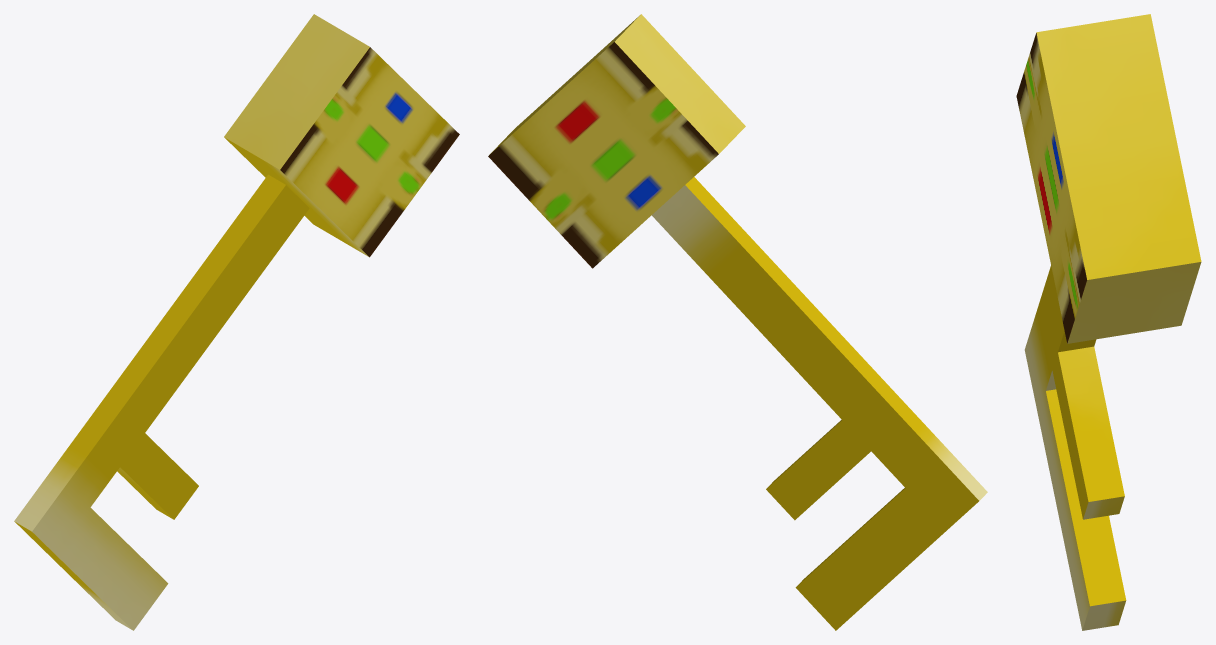
File: Key.fbx
The picture shows the model from 3 angles, left to right: view 1: azimuth 30°, elevation 25°; view 2: azimuth 150°, elevation 25°; view 3: azimuth 270°, elevation 25°; orthographic projection. The views are drawn at different scales.
Parts seen in each view (by area): view 1: key; view 2: key; view 3: key.
Boxes of the visible parts, <box> form: key: <box>14,14,459,630</box>; key: <box>488,14,987,630</box>; key: <box>1016,14,1201,630</box>.
Size of the model in its own units: 1.19 by 1.37 by 0.3046.
